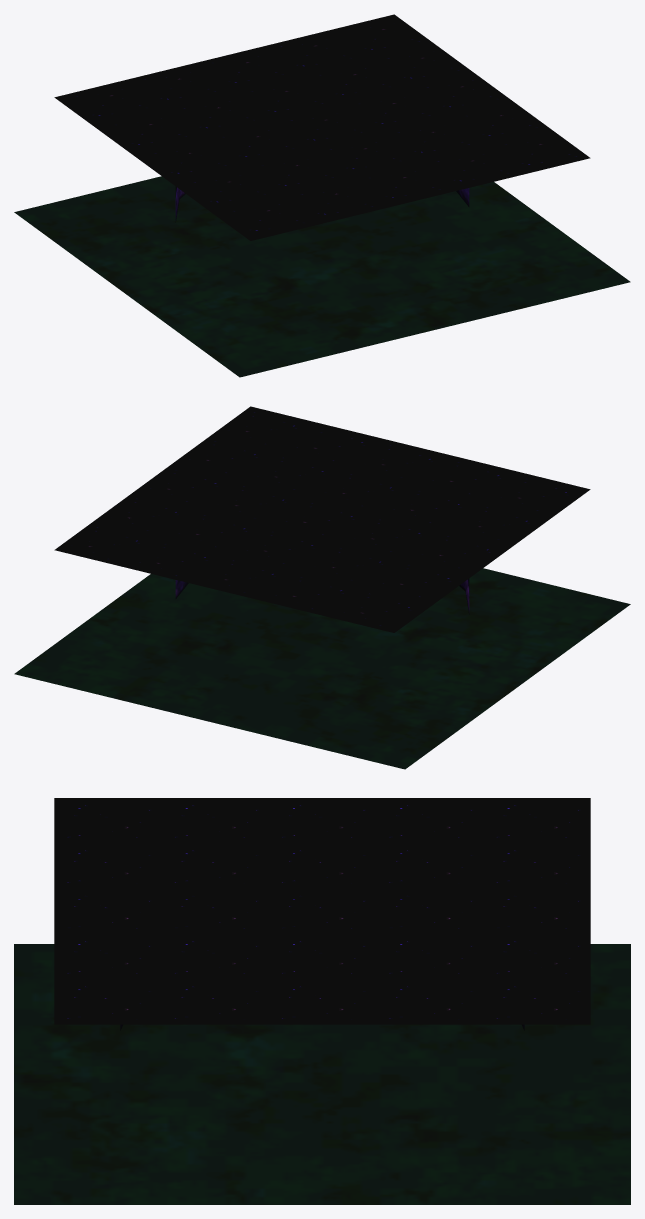
The model's file is INST_LT_SKYBOX_01.fbx.
3 views of the same model, one above another, from view 1: azimuth 30°, elevation 25°; view 2: azimuth 150°, elevation 25°; view 3: azimuth 270°, elevation 25° (orthographic). The views are drawn at different scales.
Parts seen in each view (by area): view 1: INST_LT_SKYBOX_01; view 2: INST_LT_SKYBOX_01; view 3: INST_LT_SKYBOX_01.
Boxes of the visible parts, bbox=[...] form: INST_LT_SKYBOX_01: bbox=[14, 14, 630, 377]; INST_LT_SKYBOX_01: bbox=[14, 406, 630, 769]; INST_LT_SKYBOX_01: bbox=[14, 798, 630, 1204].
Bounding box in the file's own units: 188025 × 54836 × 188025.
Materials: 6 (6 with a texture image).
